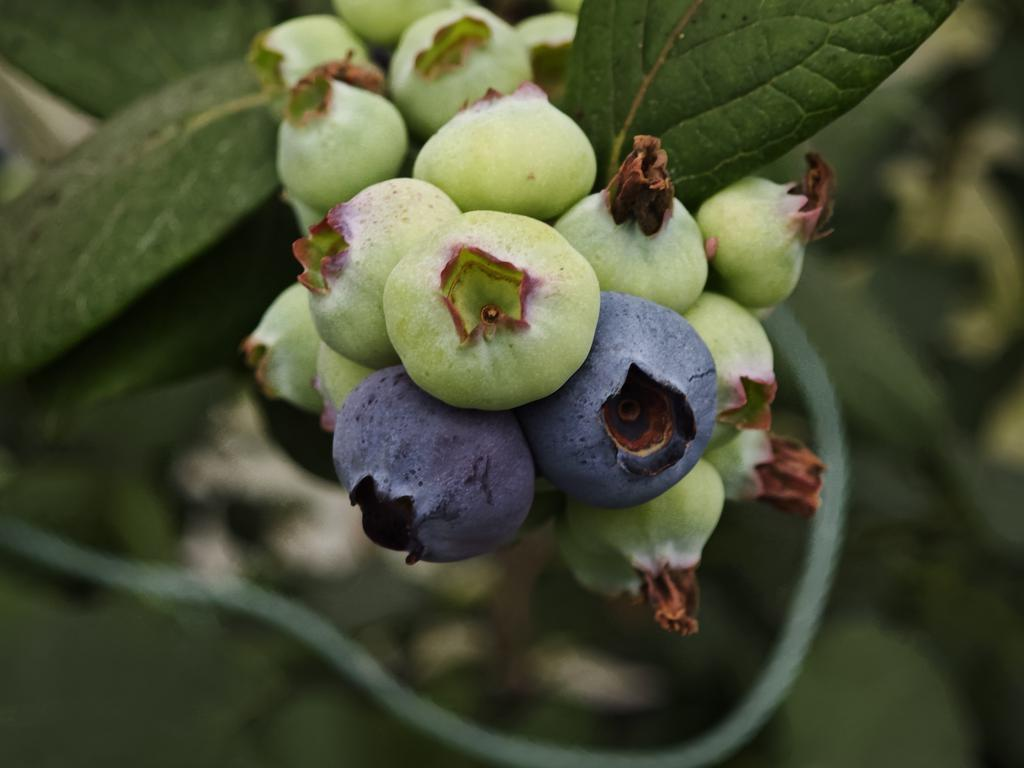RipeBlueBerry: (329, 369, 540, 568), (538, 289, 723, 513)
UnripeBlueBerry: (382, 205, 604, 414)
